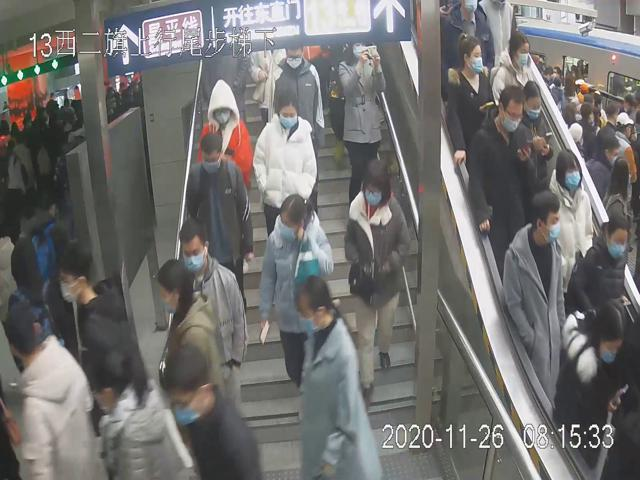person: (285, 276, 385, 480), (253, 192, 335, 399), (344, 158, 409, 414), (172, 222, 253, 417), (499, 188, 565, 416), (181, 131, 255, 332), (464, 83, 534, 271), (252, 83, 317, 247), (266, 42, 325, 220), (332, 42, 389, 209), (196, 77, 251, 224), (546, 148, 595, 306), (444, 31, 496, 154)
